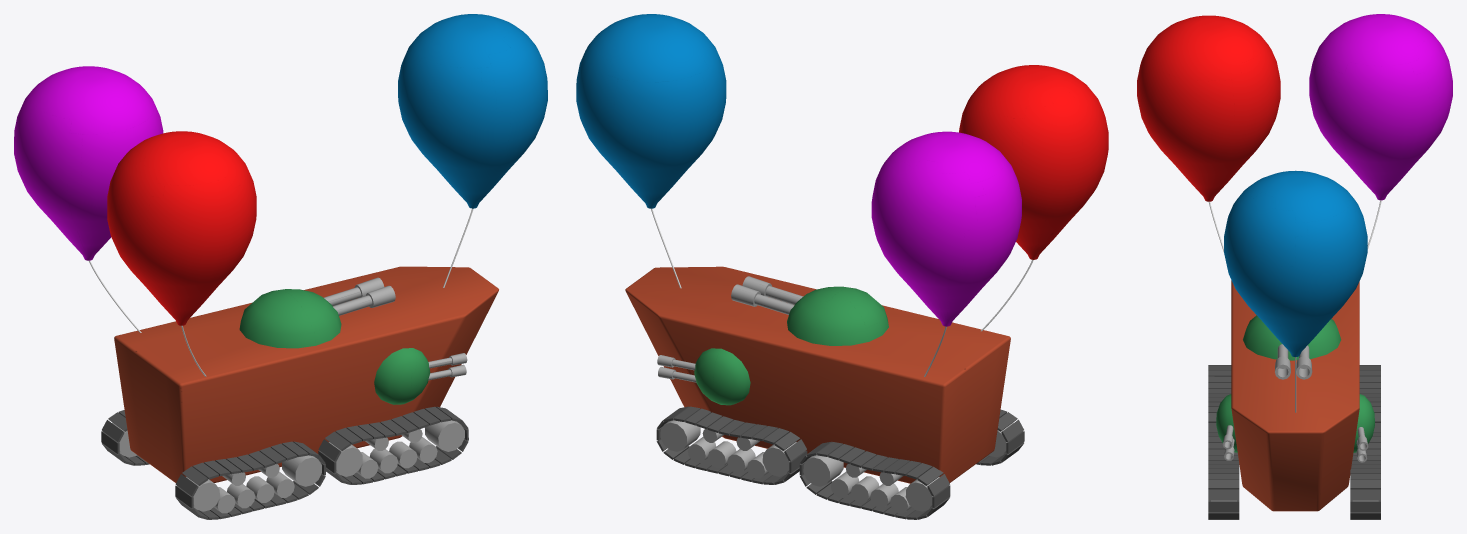
The model's file is truck.fbx.
The picture shows the model from 3 angles, left to right: view 1: azimuth 30°, elevation 25°; view 2: azimuth 150°, elevation 25°; view 3: azimuth 270°, elevation 25°; orthographic projection. The views are drawn at different scales.
Parts seen in each view (by area): view 1: Truck, Sphere.004, Sphere.005, Sphere.003, Sphere, chain tracks.002, chain tracks.003, Cylinder.030, Cylinder.022, Sphere.001, chain tracks, Cylinder.032 (+1 smaller); view 2: Truck, Sphere.003, Sphere.004, Sphere.005, Sphere, chain tracks, chain tracks.001, Cylinder.006, Cylinder.008, Sphere.002, chain tracks.002, Cylinder.033 (+1 smaller); view 3: Truck, Sphere.003, Sphere.005, Sphere.004, chain tracks.003, chain tracks.001, Sphere, chain tracks.002, chain tracks, Sphere.002, Sphere.001, Cylinder.032 (+1 smaller).
Part boxes in pixels (<box>): Truck: <box>114,266,498,482</box>; Sphere.004: <box>398,14,547,208</box>; Sphere.005: <box>107,131,256,325</box>; Sphere.003: <box>14,66,163,260</box>; Sphere: <box>239,289,341,348</box>; chain tracks.002: <box>175,441,325,519</box>; chain tracks.003: <box>318,406,468,484</box>; Cylinder.030: <box>329,420,464,478</box>; Cylinder.022: <box>186,455,321,513</box>; Sphere.001: <box>374,348,430,404</box>; chain tracks: <box>101,410,149,465</box>; Cylinder.032: <box>333,285,395,315</box>; Truck: <box>625,266,1010,483</box>; Sphere.003: <box>871,131,1021,326</box>; Sphere.004: <box>576,14,726,208</box>; Sphere.005: <box>959,65,1108,259</box>; Sphere: <box>787,286,888,345</box>; chain tracks: <box>799,441,950,519</box>; chain tracks.001: <box>656,406,807,484</box>; Cylinder.006: <box>803,455,939,513</box>; Cylinder.008: <box>660,420,796,478</box>; Sphere.002: <box>694,348,750,405</box>; chain tracks.002: <box>976,409,1024,465</box>; Cylinder.033: <box>731,284,794,314</box>; Truck: <box>1231,280,1359,511</box>; Sphere.003: <box>1309,14,1452,200</box>; Sphere.005: <box>1137,15,1280,201</box>; Sphere.004: <box>1224,170,1367,357</box>; chain tracks.003: <box>1208,432,1239,519</box>; chain tracks.001: <box>1350,432,1380,519</box>; Sphere: <box>1243,315,1341,360</box>; chain tracks.002: <box>1208,365,1231,431</box>; chain tracks: <box>1359,365,1380,431</box>; Sphere.002: <box>1353,394,1374,452</box>; Sphere.001: <box>1216,394,1237,452</box>; Cylinder.032: <box>1275,344,1290,379</box>.
Bounding box in the file's own units: 2114 × 1677 × 1286.
Materials: 2 (1 with a texture image).
